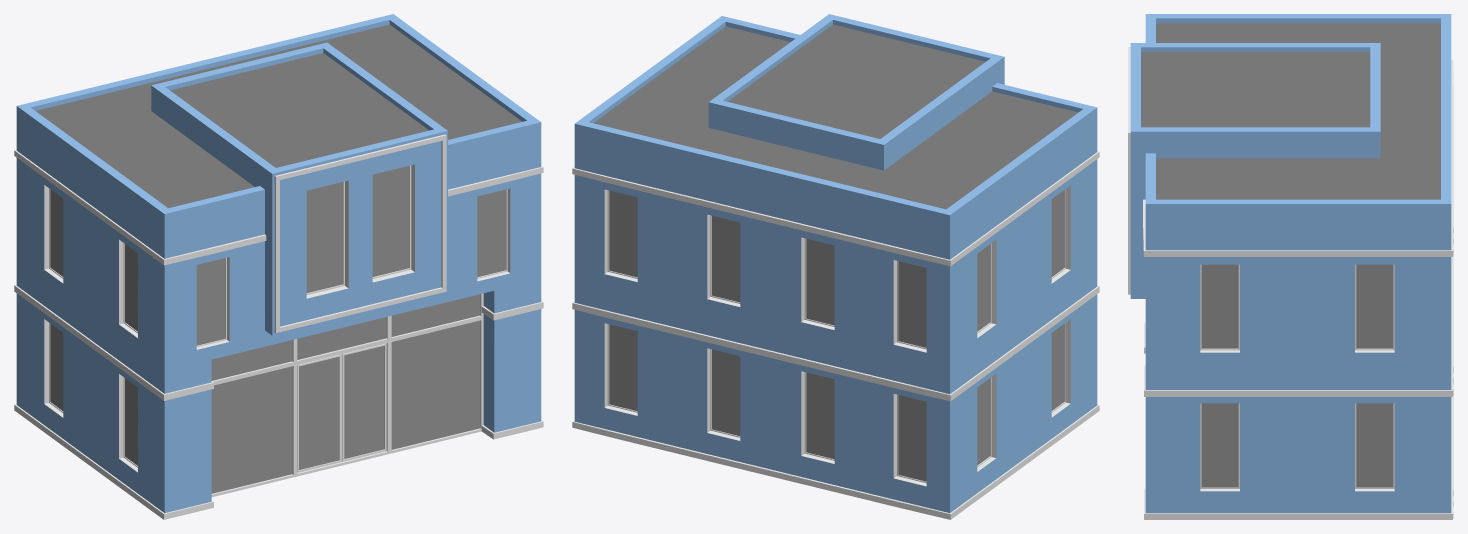
The model's file is SM_House_07_01.FBX.
3 views of the same model, side by side, from view 1: azimuth 30°, elevation 25°; view 2: azimuth 150°, elevation 25°; view 3: azimuth 270°, elevation 25° (orthographic). The views are drawn at different scales.
Visible parts, largest first — view 1: SM_House_07_01; view 2: SM_House_07_01; view 3: SM_House_07_01.
Part boxes in pixels (x1,y1,x2,y2): SM_House_07_01: (14, 14, 543, 519); SM_House_07_01: (572, 14, 1099, 519); SM_House_07_01: (1128, 14, 1453, 519).
Size of the model in its own units: 8.06 by 6.61 by 5.79.
1 material, 1 textured.
